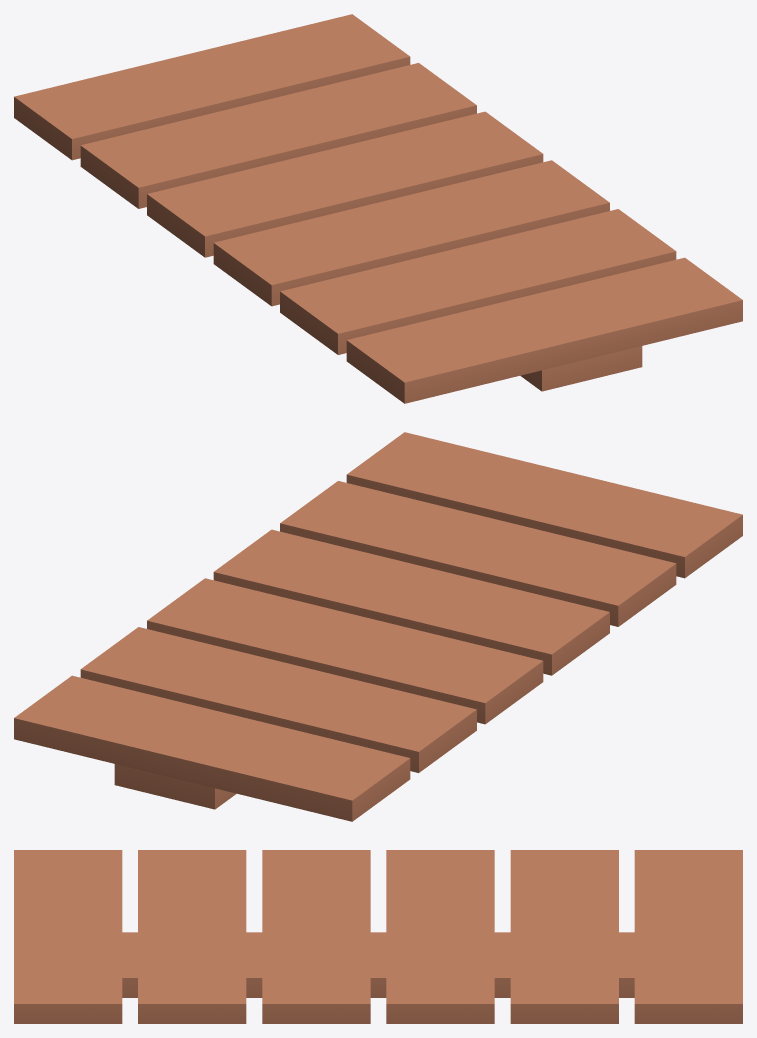
The model's file is prop-kn-planks-half.glb.
The picture shows the model from 3 angles, top to bottom: view 1: azimuth 30°, elevation 25°; view 2: azimuth 150°, elevation 25°; view 3: azimuth 270°, elevation 25°; orthographic projection. The views are drawn at different scales.
Parts seen in each view (by area): view 1: planks-half; view 2: planks-half; view 3: planks-half.
Boxes of the visible parts, left/top/right/bottom form: planks-half: left=14, top=14, right=742, bottom=403; planks-half: left=14, top=432, right=742, bottom=821; planks-half: left=14, top=850, right=742, bottom=1023.
Size of the model in its own units: 1.5 by 0.18 by 3.
1 material, 1 textured.
